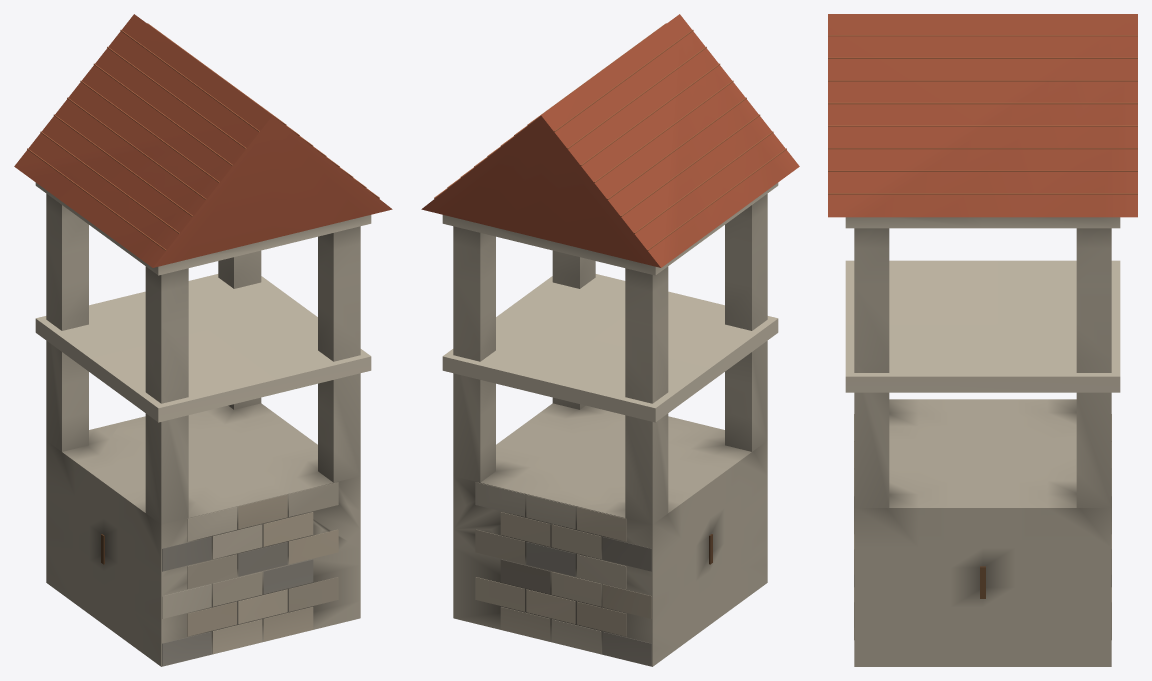
Rendered from 09_keep.glb.
The picture shows the model from 3 angles, left to right: view 1: azimuth 30°, elevation 25°; view 2: azimuth 150°, elevation 25°; view 3: azimuth 270°, elevation 25°; orthographic projection. The views are drawn at different scales.
Visible parts, largest first — view 1: 09_keep_stone, 09_keep_roof, 09_keep_ashlar, 09_keep_ashlar_nocol, 09_keep_mortar_nocol, 09_keep_rooflight_nocol; view 2: 09_keep_stone, 09_keep_roof, 09_keep_ashlar, 09_keep_ashlar_nocol, 09_keep_mortar_nocol, 09_keep_rooflight_nocol; view 3: 09_keep_stone, 09_keep_roof, 09_keep_ashlar, 09_keep_rooflight_nocol.
Part boxes in pixels (x1,y1,x2,y2): 09_keep_stone: [46, 194, 360, 666]; 09_keep_roof: [14, 14, 392, 267]; 09_keep_ashlar: [35, 182, 371, 422]; 09_keep_ashlar_nocol: [162, 482, 338, 653]; 09_keep_mortar_nocol: [162, 536, 313, 666]; 09_keep_rooflight_nocol: [27, 23, 379, 250]; 09_keep_stone: [453, 194, 767, 666]; 09_keep_roof: [421, 14, 799, 267]; 09_keep_ashlar: [442, 182, 778, 422]; 09_keep_ashlar_nocol: [475, 482, 651, 653]; 09_keep_mortar_nocol: [500, 536, 651, 666]; 09_keep_rooflight_nocol: [434, 23, 786, 250]; 09_keep_stone: [854, 228, 1111, 666]; 09_keep_roof: [828, 14, 1137, 217]; 09_keep_ashlar: [845, 217, 1120, 392]; 09_keep_rooflight_nocol: [828, 35, 1137, 194].
Size of the model in its own units: 53 by 113 by 53.
